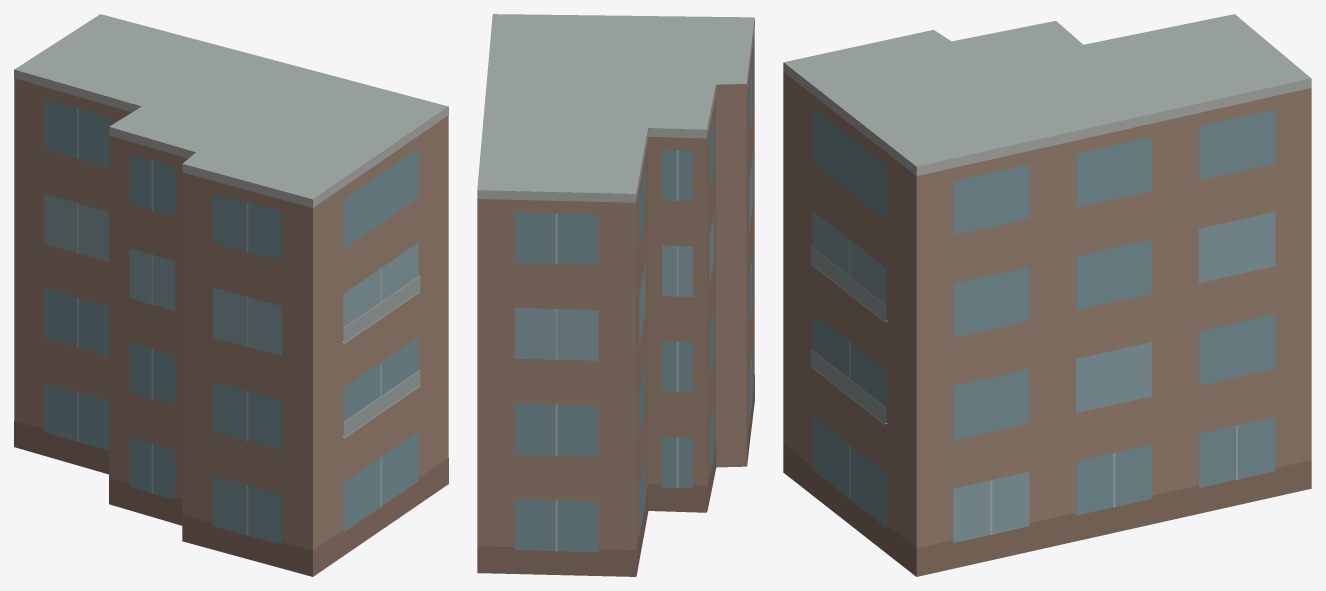
The model's file is survey-upis-32773994.glb.
3 views of the same model, side by side, from view 1: azimuth 30°, elevation 25°; view 2: azimuth 150°, elevation 25°; view 3: azimuth 270°, elevation 25° (orthographic). The views are drawn at different scales.
Parts seen in each view (by area): view 1: survey-upis-32773994.tmp; view 2: survey-upis-32773994.tmp; view 3: survey-upis-32773994.tmp.
Part boxes in pixels (box(x1,y1,x2,y2)): survey-upis-32773994.tmp: box(14, 14, 448, 576); survey-upis-32773994.tmp: box(477, 14, 754, 576); survey-upis-32773994.tmp: box(783, 14, 1311, 576).
Bounding box in the file's own units: 8.51 × 10.65 × 12.44.
